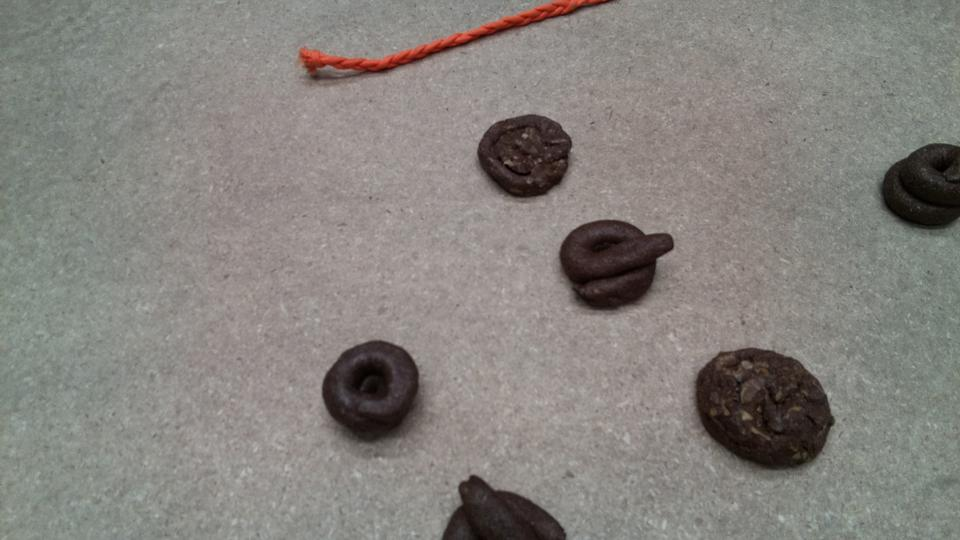poop: (692, 343, 840, 474), (557, 216, 675, 311), (320, 338, 423, 442), (435, 470, 570, 540), (475, 110, 575, 201), (880, 140, 960, 231)
rope: (296, 1, 586, 86)
